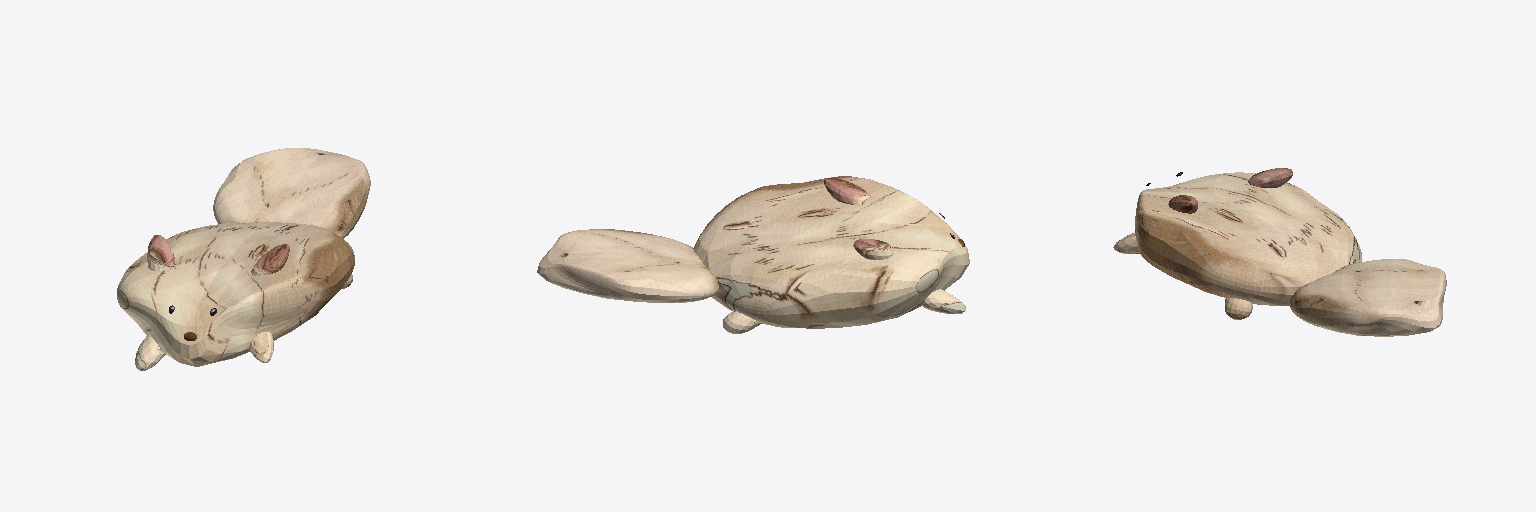
3 renders of one model, left to right at view 1: azimuth 30°, elevation 25°; view 2: azimuth 150°, elevation 25°; view 3: azimuth 270°, elevation 25°, orthographic.
Parts seen in each view (by area): view 1: Cube.005; view 2: Cube.005; view 3: Cube.005.
Boxes of the visible parts, x1,y1,x2,y2 form: Cube.005: [117, 148, 370, 370]; Cube.005: [537, 176, 969, 333]; Cube.005: [1113, 168, 1446, 336].
Size of the model in its own units: 4.69 by 1.37 by 4.27.
Materials: 1 (1 with a texture image).